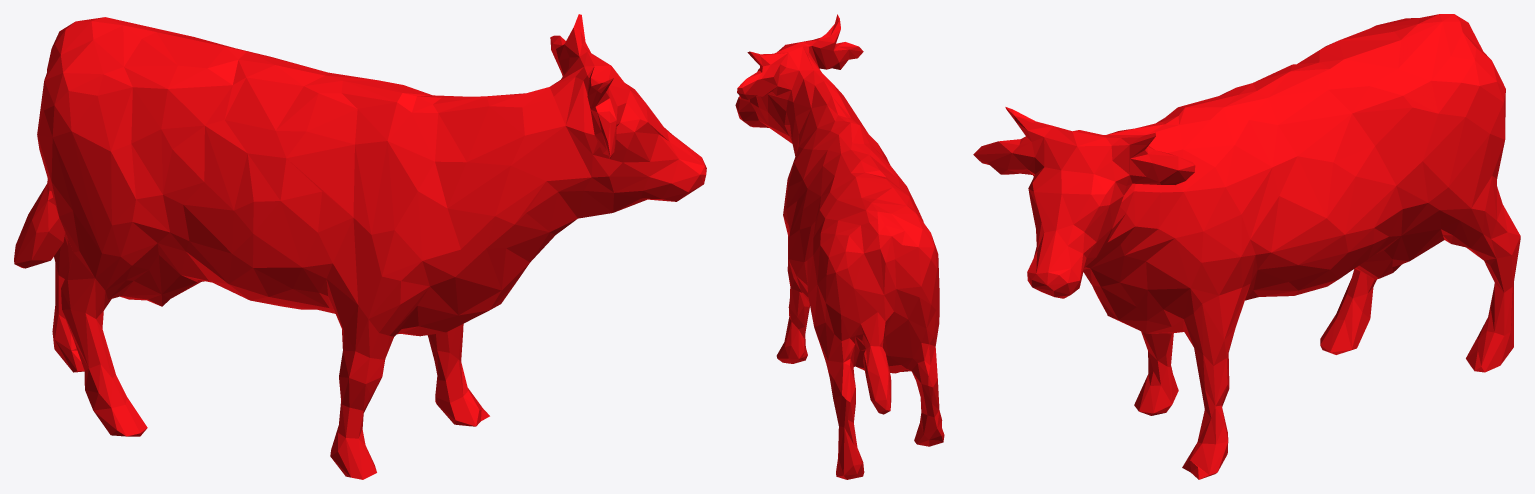
Rendered from cow_edit_ver1.glb.
3 renders of one model, left to right at view 1: azimuth 30°, elevation 25°; view 2: azimuth 150°, elevation 25°; view 3: azimuth 270°, elevation 25°, orthographic. The views are drawn at different scales.
Visible parts, largest first — view 1: cow_simple; view 2: cow_simple; view 3: cow_simple.
Part boxes in pixels (left/top/right/bottom): cow_simple: left=14, top=14, right=706, bottom=479; cow_simple: left=735, top=14, right=944, bottom=479; cow_simple: left=973, top=14, right=1520, bottom=479.
Size of the model in its own units: 7.93 by 6.65 by 8.6.
